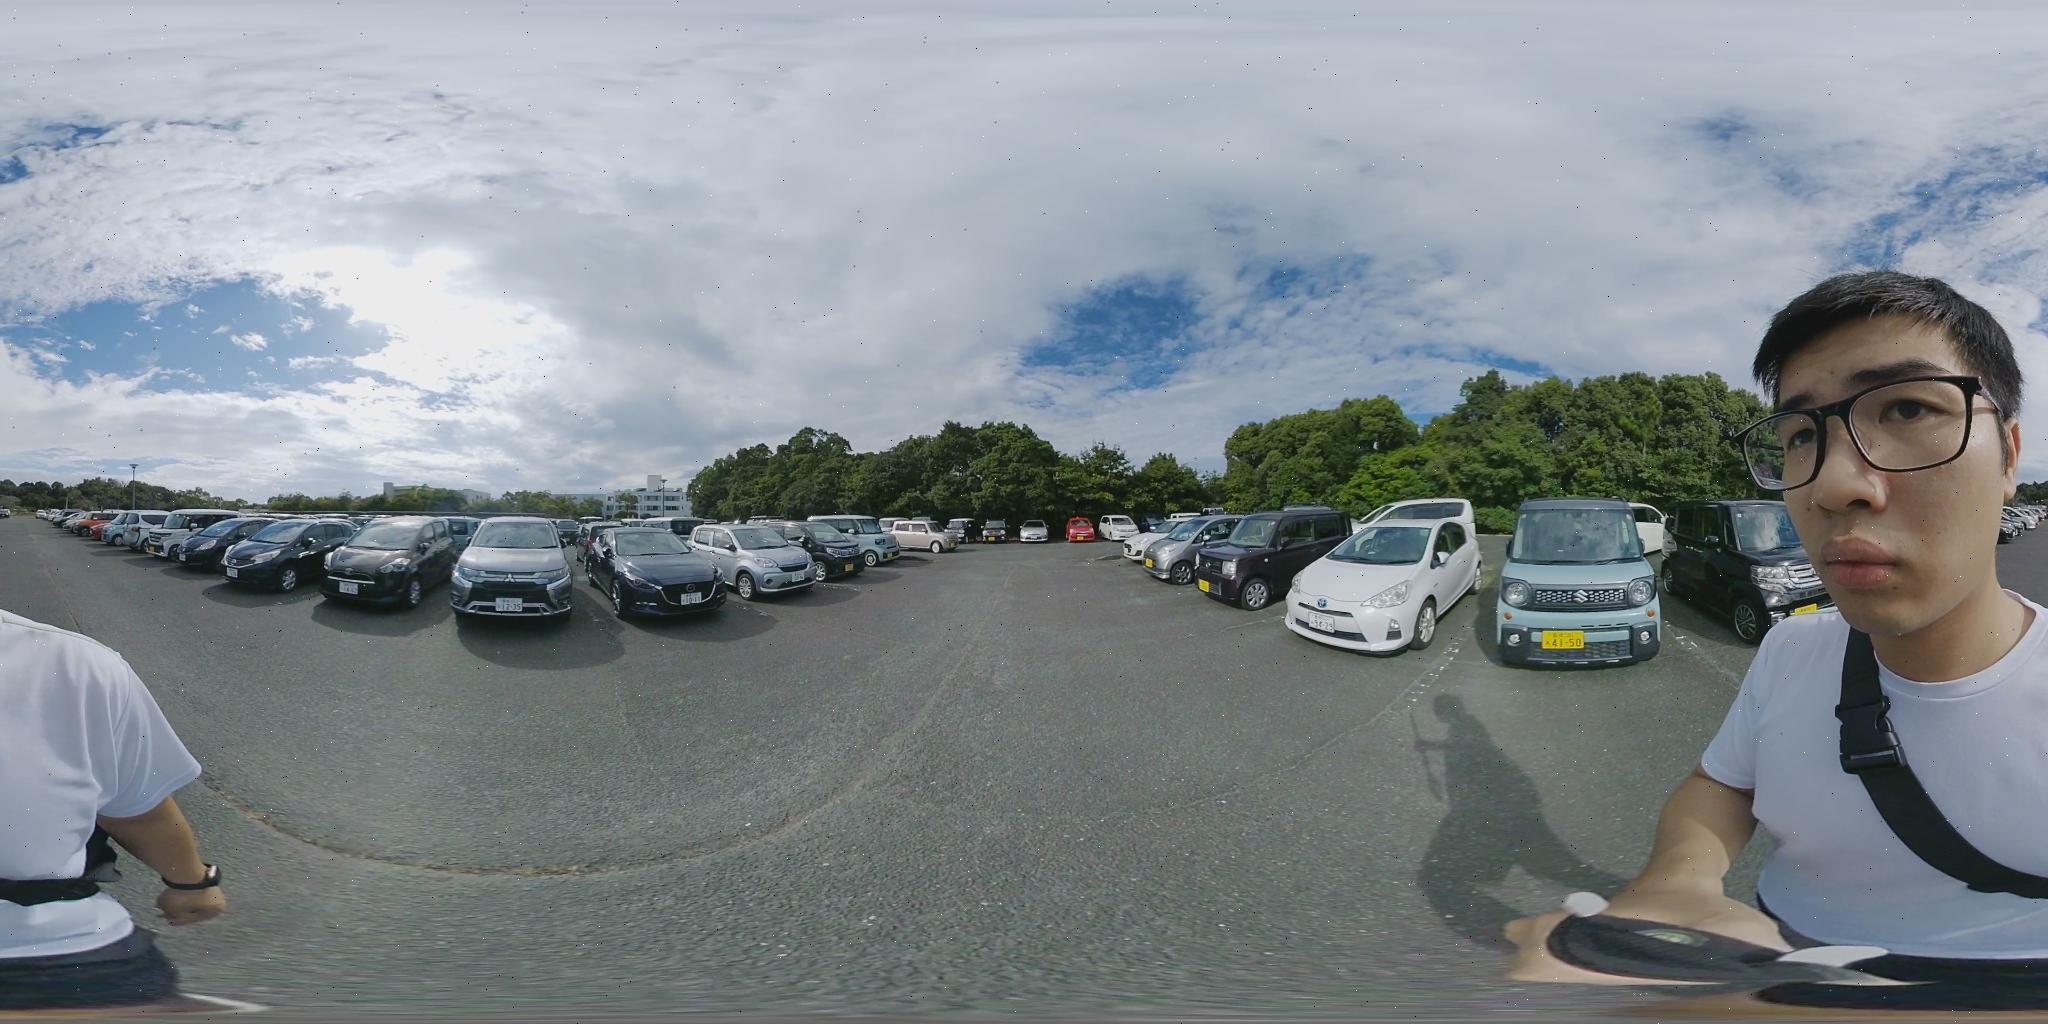car: (1285, 503, 1490, 658), (1490, 500, 1677, 670), (1667, 503, 1832, 641), (1183, 508, 1356, 606), (576, 522, 746, 620), (321, 519, 485, 606), (448, 522, 580, 623), (216, 519, 358, 594), (690, 521, 823, 596), (792, 516, 897, 573), (1138, 516, 1232, 579), (159, 519, 273, 569), (106, 511, 213, 551), (1015, 525, 1048, 543)
